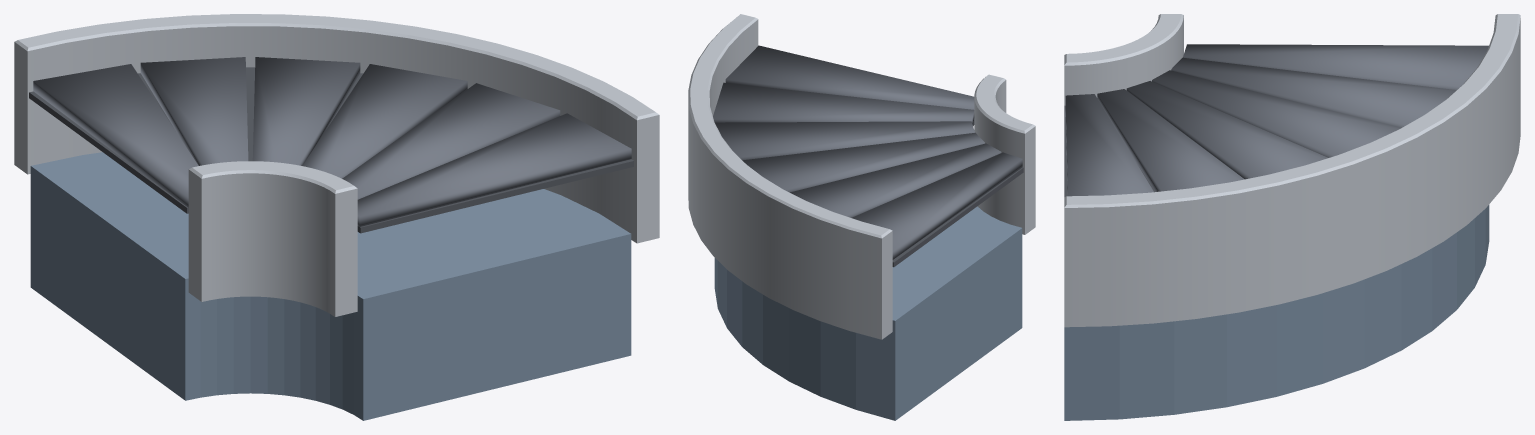
Rendered from Conveyor_Turn.glb.
3 views of the same model, side by side, from view 1: azimuth 30°, elevation 25°; view 2: azimuth 150°, elevation 25°; view 3: azimuth 270°, elevation 25° (orthographic). The views are drawn at different scales.
Parts seen in each view (by area): view 1: Corner_Turn_Pedestal, Corner_Turn_Belt_Slats, Corner_Turn_Outer_Rail, Corner_Turn_Inner_Rail, Corner_Turn_Belt_Bed; view 2: Corner_Turn_Belt_Slats, Corner_Turn_Pedestal, Corner_Turn_Outer_Rail, Corner_Turn_Inner_Rail, Corner_Turn_Belt_Bed; view 3: Corner_Turn_Outer_Rail, Corner_Turn_Belt_Slats, Corner_Turn_Pedestal, Corner_Turn_Inner_Rail.
Boxes of the visible parts, x1,y1,x2,y2 form: Corner_Turn_Pedestal: [30, 152, 631, 420]; Corner_Turn_Belt_Slats: [33, 57, 631, 226]; Corner_Turn_Outer_Rail: [14, 14, 659, 243]; Corner_Turn_Inner_Rail: [188, 161, 357, 316]; Corner_Turn_Belt_Bed: [29, 67, 633, 233]; Corner_Turn_Belt_Slats: [713, 45, 1022, 259]; Corner_Turn_Pedestal: [714, 206, 1022, 420]; Corner_Turn_Outer_Rail: [688, 14, 892, 339]; Corner_Turn_Inner_Rail: [974, 74, 1035, 234]; Corner_Turn_Belt_Bed: [892, 121, 1023, 267]; Corner_Turn_Outer_Rail: [1064, 14, 1520, 327]; Corner_Turn_Belt_Slats: [1065, 44, 1488, 196]; Corner_Turn_Pedestal: [1064, 204, 1489, 420]; Corner_Turn_Inner_Rail: [1064, 14, 1183, 105].
Size of the model in its own units: 0.58 by 0.32 by 0.58.
